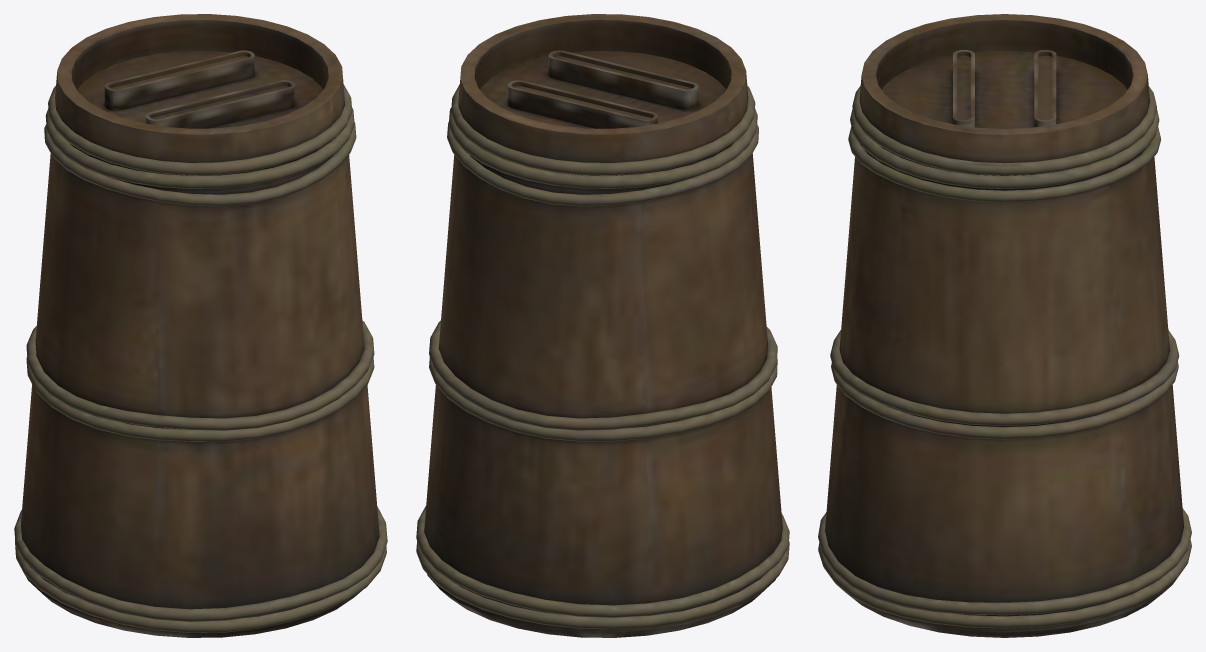
The model's file is SM_barrel_03.glb.
The picture shows the model from 3 angles, left to right: view 1: azimuth 30°, elevation 25°; view 2: azimuth 150°, elevation 25°; view 3: azimuth 270°, elevation 25°; orthographic projection.
Visible parts, largest first — view 1: SM_barrel_03; view 2: SM_barrel_03; view 3: SM_barrel_03.
Part boxes in pixels (x1,y1,x2,y2): SM_barrel_03: (14, 14, 387, 637); SM_barrel_03: (416, 14, 789, 637); SM_barrel_03: (818, 14, 1191, 637).
Size of the model in its own units: 0.7495 by 1.09 by 0.7502.
Materials: 1 (1 with a texture image).
